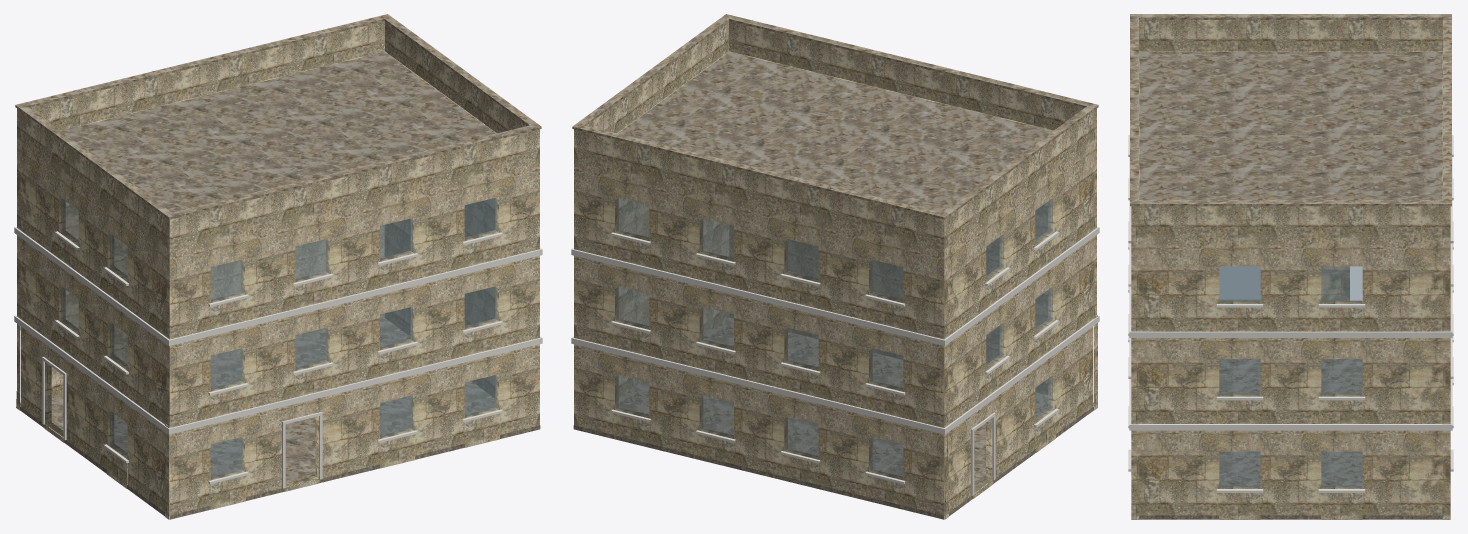
File: customs-house.reveal-v1.lod1.glb
3 views of the same model, side by side, from view 1: azimuth 30°, elevation 25°; view 2: azimuth 150°, elevation 25°; view 3: azimuth 270°, elevation 25° (orthographic). The views are drawn at different scales.
Parts seen in each view (by area): view 1: customs-house; view 2: customs-house; view 3: customs-house.
Boxes of the visible parts, x1,y1,x2,y2 form: customs-house: (14, 14, 542, 519); customs-house: (571, 14, 1099, 519); customs-house: (1128, 14, 1453, 519).
Size of the model in its own units: 14.2 by 10.95 by 10.2.
Materials: 4 (2 with a texture image).
